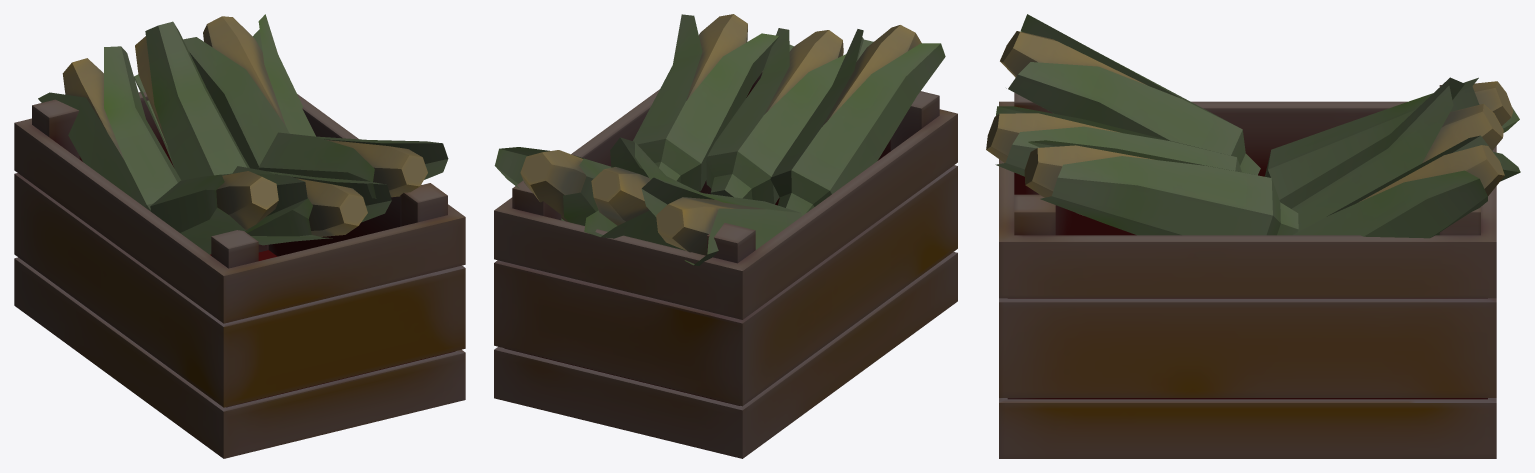
Rendered from meyva5.fbx.
3 views of the same model, side by side, from view 1: azimuth 30°, elevation 25°; view 2: azimuth 150°, elevation 25°; view 3: azimuth 270°, elevation 25° (orthographic). The views are drawn at different scales.
Parts seen in each view (by area): view 1: Cube.073; view 2: Cube.073; view 3: Cube.073.
Boxes of the visible parts, left/top/right/bottom form: Cube.073: left=14, top=14, right=465, bottom=458; Cube.073: left=494, top=14, right=957, bottom=458; Cube.073: left=986, top=14, right=1520, bottom=458.
Bounding box in the file's own units: 32.71 × 33.52 × 51.7.
